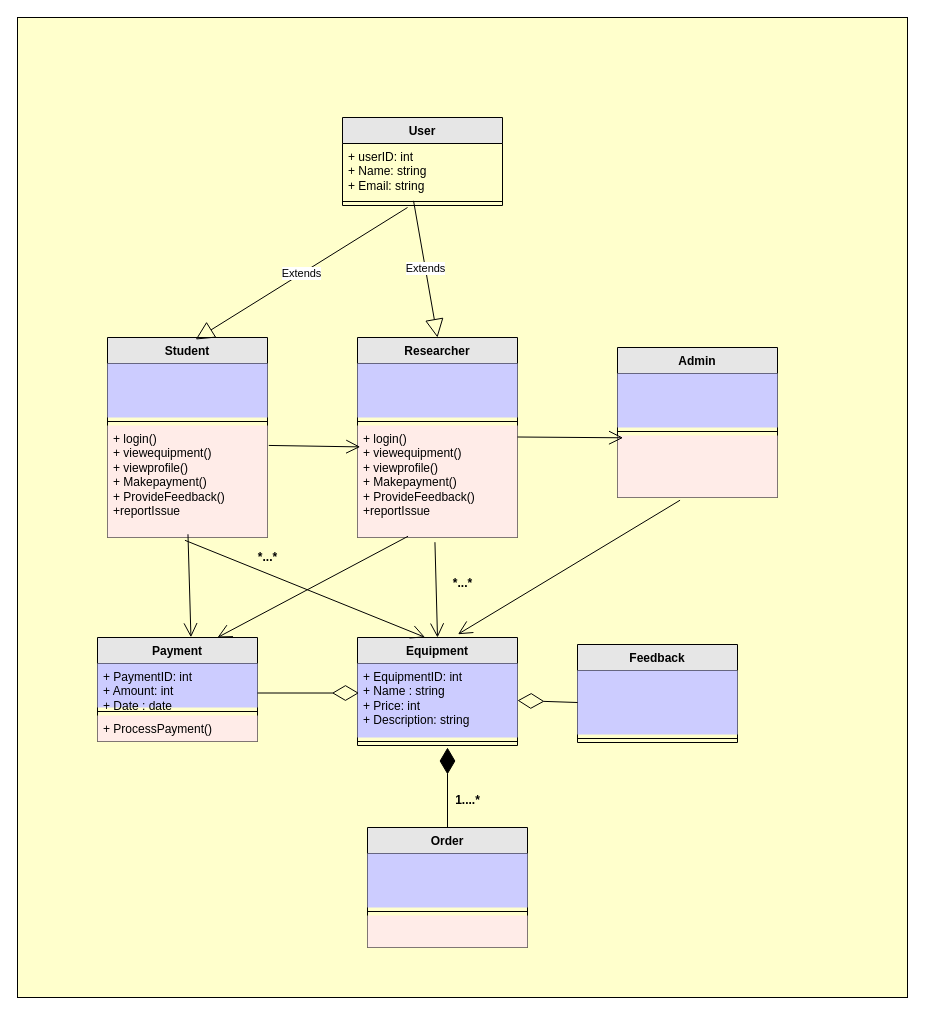
The diagram is 925 pixels wide and 1015 high, and some of its shapes have lost their labels. The shapes that lost their labels are listed below. From the top down, each one's centre as x and y in pixels, then its label:
At point (187, 390): "+ studentID : int + studentName :string + Email : string".
At point (437, 390): "+ ResearcherID : int + ResearcherName :string + Email : string".
At point (697, 400): "+ AdminID : int + Name :string + Email : string".
At point (697, 466): "+ login() + managePayment() +manageUser()".
At point (657, 702): "+ FeedbackId : int + Email : string + content : string + Date : date".
At point (447, 880): "+ orderID : int + Amount : int".
At point (447, 931): "+ Process Order()".
